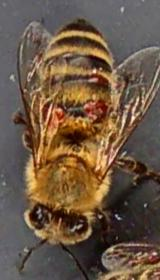varroa_mite: (42, 99, 72, 126), (80, 93, 108, 120)
